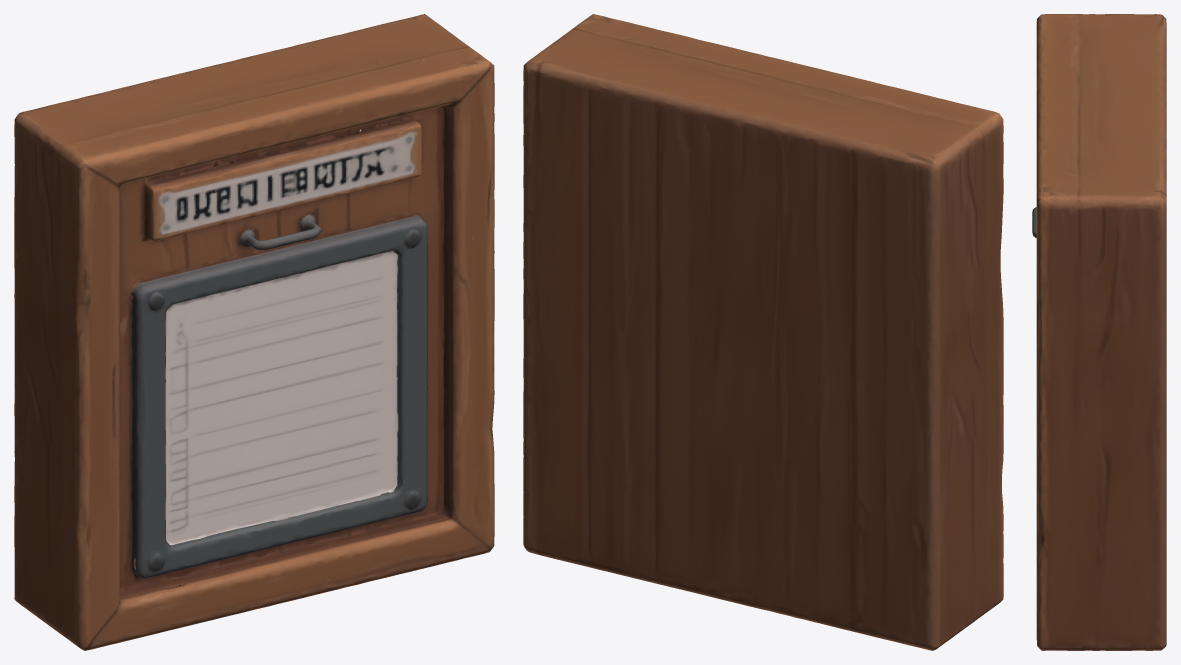
The model's file is facultyoffice_VisitorLog.glb.
The picture shows the model from 3 angles, left to right: view 1: azimuth 30°, elevation 25°; view 2: azimuth 150°, elevation 25°; view 3: azimuth 270°, elevation 25°; orthographic projection. The views are drawn at different scales.
Visible parts, largest first — view 1: world; view 2: world; view 3: world.
Boxes of the visible parts, x1,y1,x2,y2 form: world: (14, 14, 494, 650); world: (523, 14, 1003, 650); world: (1032, 14, 1166, 650).
Bounding box in the file's own units: 0.8868 × 1 × 0.2688.
1 material, 1 textured.
